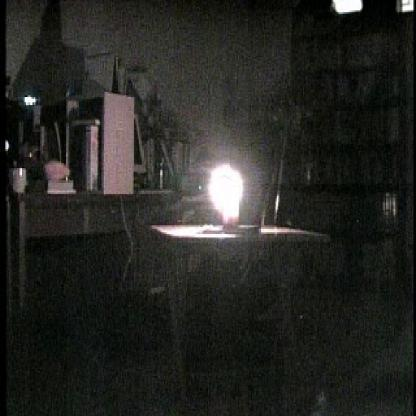fire: (199, 152, 260, 234)
